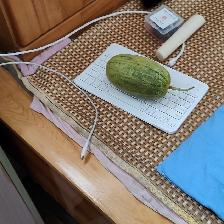gua: (108, 57, 171, 97)
